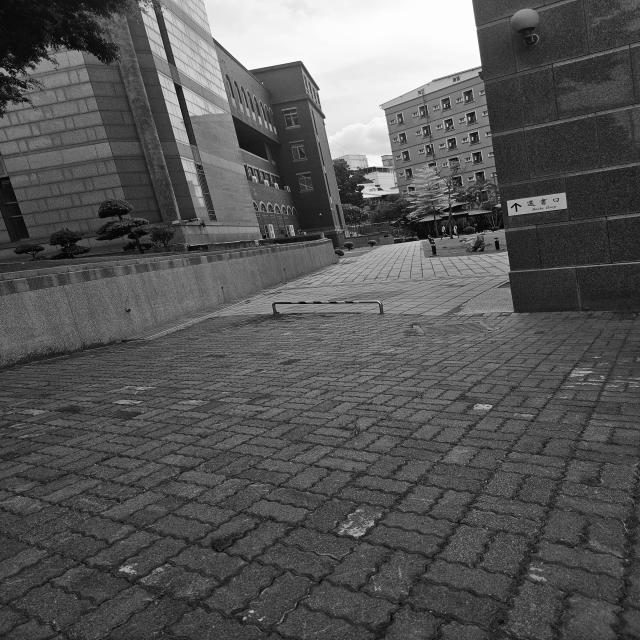Road-Object: (0, 243, 639, 640)
